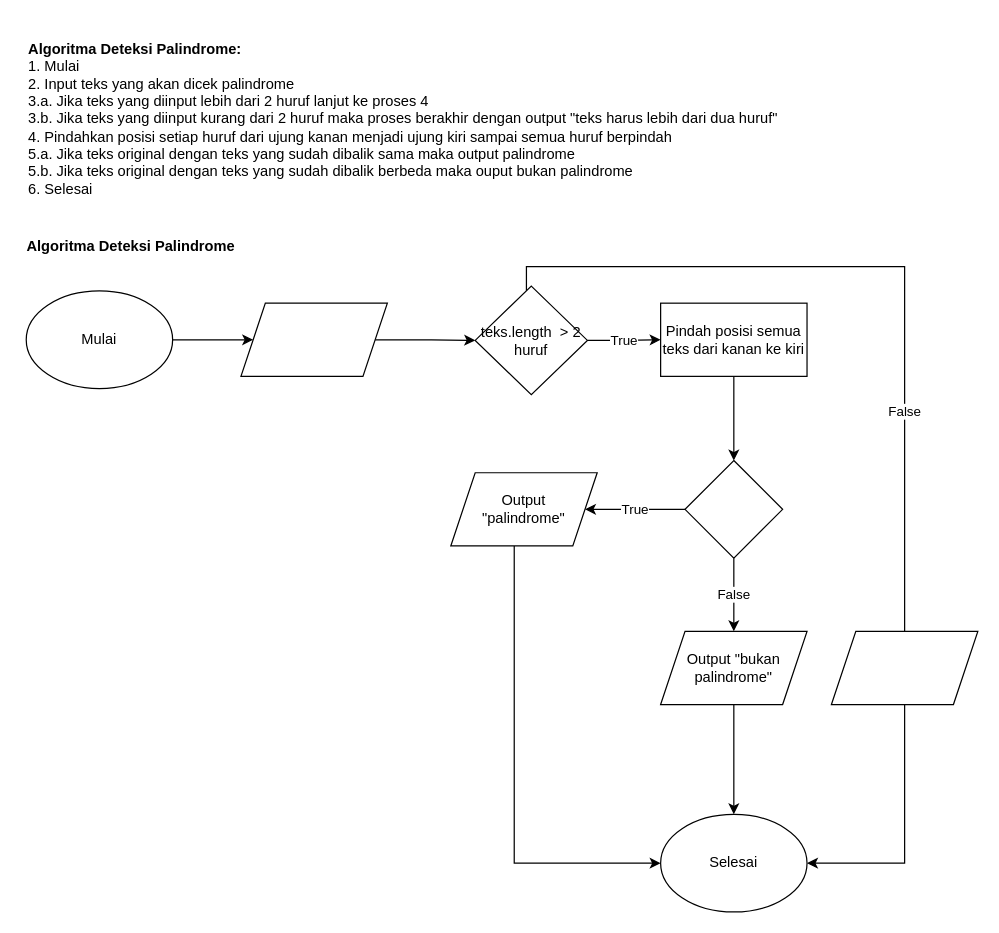
This 999x933 diagram has some shape labels left out. Here are the shapes that lost their labels. From the top down, the centre of each, then its label:
pixel 313 339: Input Teks
pixel 733 508: Teks original === Teks dibalik
pixel 904 667: Output "teks harus lebih dari 2 huruf"
